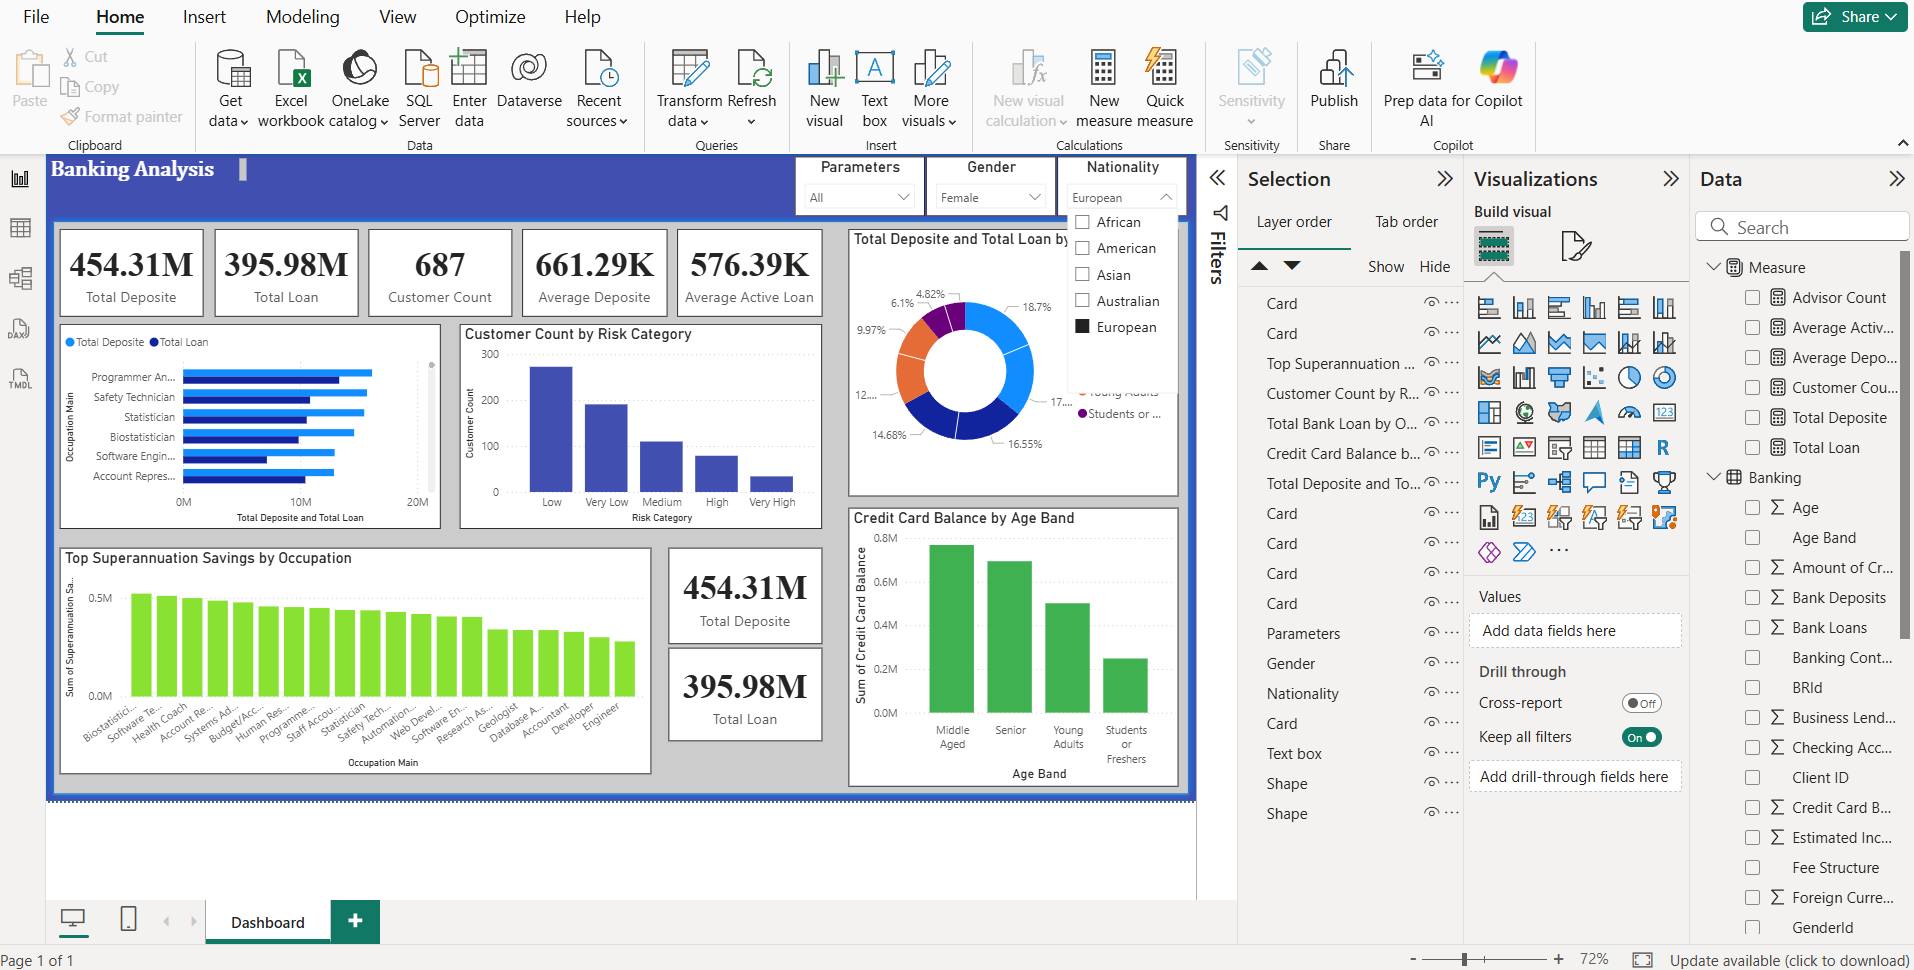

This screenshot's page, from the dashboard's own definition file:
{"tool":"powerbi","page":{"name":"Dashboard","canvas":[1280,720],"ordinal":0},"visuals":[{"type":"shape","box":[0,0,1280.3,720.2],"z":0},{"type":"shape","box":[0,66.8,1280,653.9],"z":1000},{"type":"textbox","box":[0,0,228.2,36.2],"z":2000},{"type":"card","fields":{"Values":["Measure.Total Deposite"]},"box":[15.3,83.5,160,97.4],"z":3000},{"type":"slicer","title":"Nationality","fields":{"Values":["Banking.Nationality"]},"box":[1125.6,2.8,144.7,66.8],"z":4000},{"type":"slicer","title":"Gender","fields":{"Values":["gender.Gender"]},"box":[979.5,2.8,144.7,66.8],"z":5000},{"type":"slicer","title":"Parameters","fields":{"Values":["Parameter 2.Parameter"]},"box":[833.4,2.8,144.7,66.8],"z":6000},{"type":"card","fields":{"Values":["Measure.Total Loan"]},"box":[187.8,83.5,160,97.4],"z":7000},{"type":"card","fields":{"Values":["Measure.Customer Count"]},"box":[359,83.5,160,97.4],"z":8000},{"type":"card","fields":{"Values":["Measure.Average Deposite"]},"box":[530.1,83.5,161.4,97.4],"z":9000},{"type":"card","fields":{"Values":["Measure.Average Active Loan"]},"box":[702.6,83.5,161.4,97.4],"z":10000},{"type":"donutChart","fields":{"Y":["Measure.Total Deposite","Measure.Total Loan"],"Category":["Banking.Age Band"]},"box":[893.2,83.5,367.3,297.7],"z":11000},{"type":"clusteredColumnChart","title":"Credit Card Balance by Age Band","fields":{"Y":["Sum(Banking.Credit Card Balance)"],"Category":["Banking.Age Band"]},"box":[893.2,393.7,367.3,310.3],"z":12000},{"type":"clusteredBarChart","title":"Total Bank Loan by Occupation","fields":{"Y":["Measure.Total Deposite","Measure.Total Loan"],"Category":["Banking.Occupation Main"]},"box":[15.3,189.2,424.3,228.2],"z":13000},{"type":"clusteredColumnChart","fields":{"Y":["Measure.Customer Count"],"Category":["Banking.Custom"]},"box":[460.5,189.2,403.5,228.2],"z":14000},{"type":"clusteredColumnChart","title":"Top Superannuation Savings by Occupation","fields":{"Category":["Banking.Occupation Main"],"Y":["Sum(Banking.Superannuation Savings)"]},"box":[15.3,438.3,658.1,251.8],"z":15000},{"type":"card","fields":{"Values":["Measure.Total Deposite"]},"box":[692.9,438.3,171.1,107.1],"z":16000},{"type":"card","fields":{"Values":["Measure.Total Loan"]},"box":[692.9,549.6,171.1,104.3],"z":17000}]}

Visuals, with their boxes on the page's 1280x720 design canvas (x1, y1, x2, y2). These are canvas units, not pixel positions in the 1914x970 screenshot, which may show the page scaled, cropped or inside an application window:
shape: 0:0:1280:720
shape: 0:67:1280:721
textbox: 0:0:228:36
card - Measure.Total Deposite: 15:84:175:181
"Nationality" slicer: 1126:3:1270:70
"Gender" slicer: 980:3:1124:70
"Parameters" slicer: 833:3:978:70
card - Measure.Total Loan: 188:84:348:181
card - Measure.Customer Count: 359:84:519:181
card - Measure.Average Deposite: 530:84:692:181
card - Measure.Average Active Loan: 703:84:864:181
donutChart - Measure.Total Deposite x Measure.Total Loan: 893:84:1260:381
"Credit Card Balance by Age Band" clusteredColumnChart: 893:394:1260:704
"Total Bank Loan by Occupation" clusteredBarChart: 15:189:440:417
clusteredColumnChart - Measure.Customer Count x Banking.Custom: 460:189:864:417
"Top Superannuation Savings by Occupation" clusteredColumnChart: 15:438:673:690
card - Measure.Total Deposite: 693:438:864:545
card - Measure.Total Loan: 693:550:864:654
